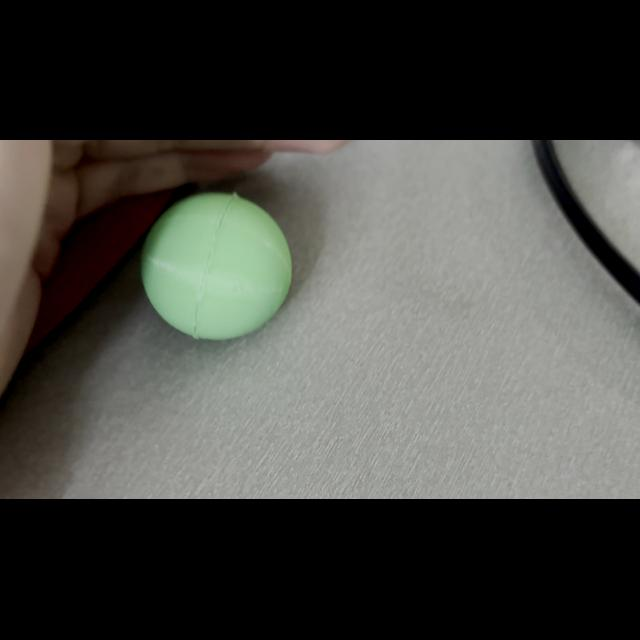objects: (136, 188, 296, 348)
